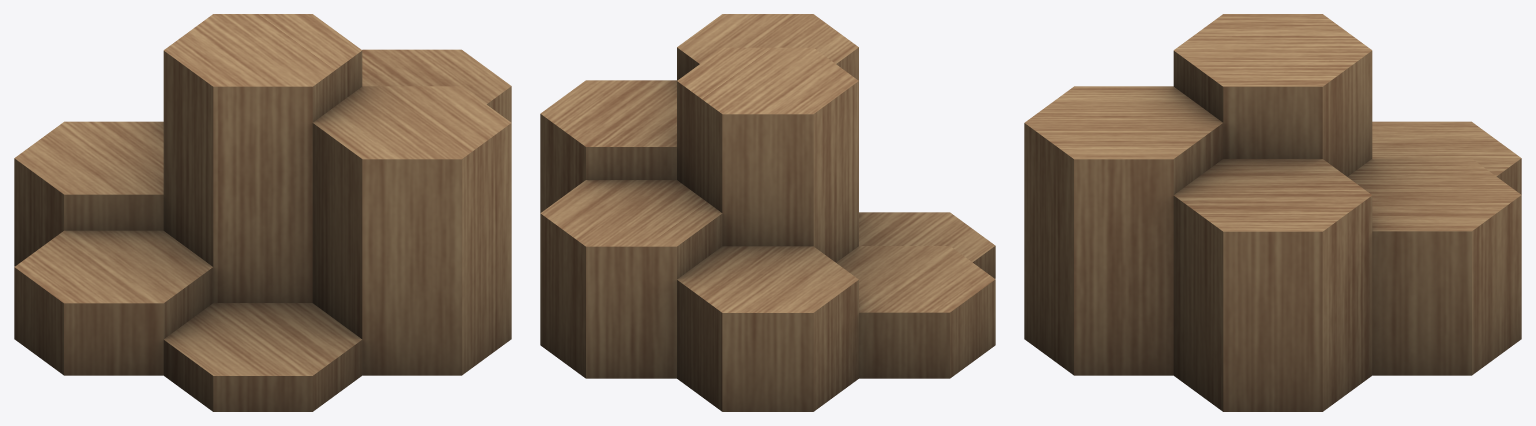
The picture shows the model from 3 angles, left to right: view 1: azimuth 30°, elevation 25°; view 2: azimuth 150°, elevation 25°; view 3: azimuth 270°, elevation 25°; orthographic projection. The views are drawn at different scales.
Parts seen in each view (by area): view 1: honeycomb; view 2: honeycomb; view 3: honeycomb.
Part boxes in pixels (x1,y1,x2,y2): honeycomb: (14, 14, 511, 411); honeycomb: (540, 14, 995, 411); honeycomb: (1024, 14, 1521, 411).
Size of the model in its own units: 260 by 140 by 250.
8 materials, 8 textured.
